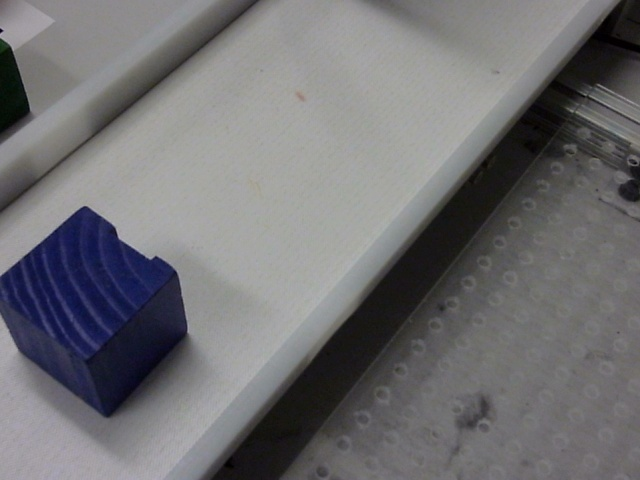BlueBlock: (1, 204, 189, 419)
